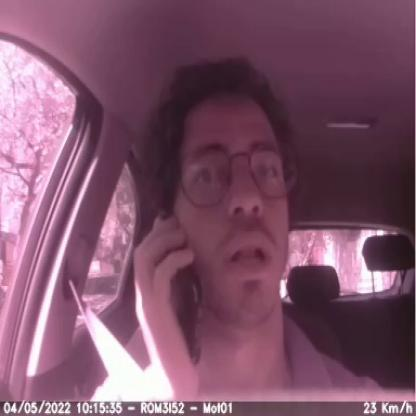phone: (152, 204, 209, 362)
